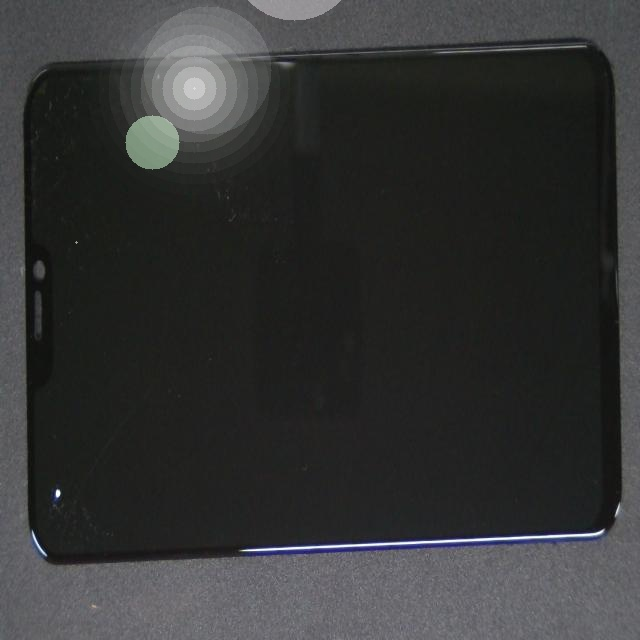stain: (23, 256, 70, 640)
